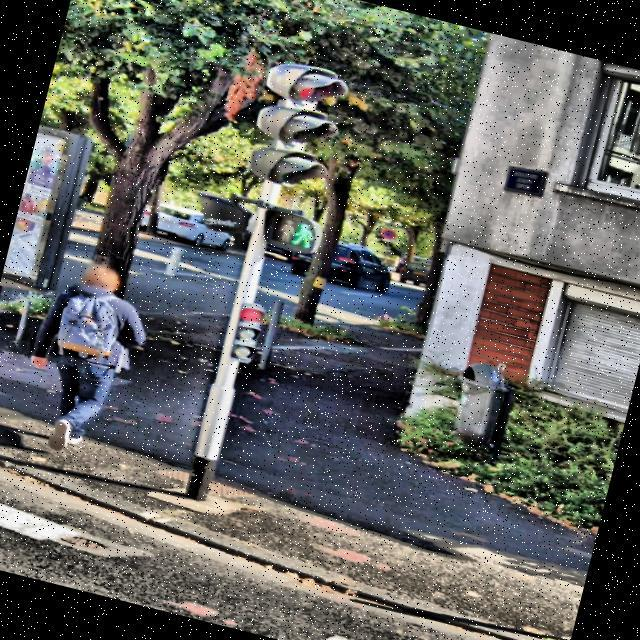green_light: (285, 218, 317, 250)
